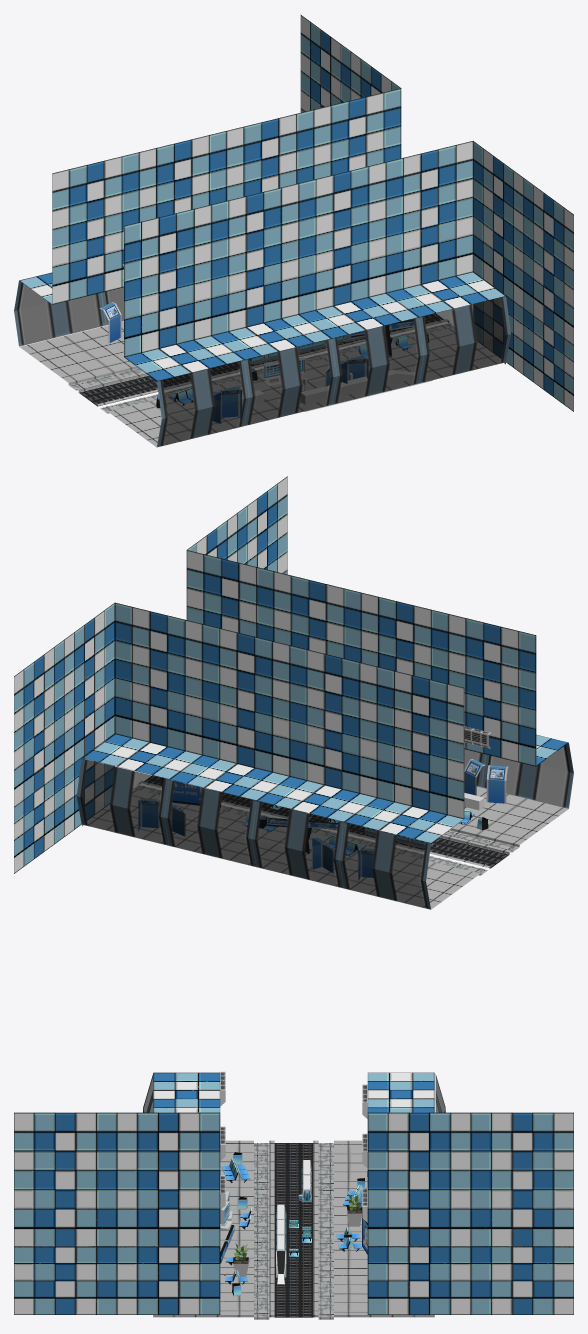
Rendered from subwaysurfmap12test.glb.
The picture shows the model from 3 angles, top to bottom: view 1: azimuth 30°, elevation 25°; view 2: azimuth 150°, elevation 25°; view 3: azimuth 270°, elevation 25°; orthographic projection. The views are drawn at different scales.
Parts seen in each view (by area): view 1: tiledwall, tiledwall.003, tiledwall.005, tiledwall.006, tiledwall.007, tiledwall.001, tiledwall.002, tiledwall.013, tiledwall.012, tiledwall.009, window1, window1.001 (+14 smaller); view 2: tiledwall.012, tiledwall.009, tiledwall.007, tiledwall.013, tiledwall.006, tiledwall.008, tiledwall.014, tiledwall, tiledwall.003, tiledwall.005, window1.007, window1.005 (+16 smaller); view 3: tiledwall.002, tiledwall.001, tiledwall.008, tiledwall.014, tiledwall.015, tiledwall.011, tiledwall.004, tiledwall.010, tiledwall.006, tiledwall.007, tile.015, tile.003 (+14 smaller).
Part boxes in pixels (bbox=[...]): tiledwall: bbox=[386, 141, 505, 317]; tiledwall.003: bbox=[298, 162, 418, 338]; tiledwall.005: bbox=[211, 183, 330, 359]; tiledwall.006: bbox=[124, 205, 243, 380]; tiledwall.007: bbox=[20, 152, 139, 304]; tiledwall.001: bbox=[473, 141, 523, 308]; tiledwall.002: bbox=[523, 178, 573, 345]; tiledwall.013: bbox=[314, 88, 401, 179]; tiledwall.012: bbox=[226, 109, 313, 200]; tiledwall.009: bbox=[139, 131, 226, 221]; window1: bbox=[418, 296, 510, 383]; window1.001: bbox=[331, 317, 423, 404]; tiledwall.012: bbox=[170, 624, 289, 800]; tiledwall.009: bbox=[257, 645, 376, 821]; tiledwall.007: bbox=[344, 666, 464, 843]; tiledwall.013: bbox=[82, 602, 202, 779]; tiledwall.006: bbox=[448, 614, 568, 766]; tiledwall.008: bbox=[14, 640, 64, 807]; tiledwall.014: bbox=[64, 603, 114, 770]; tiledwall: bbox=[186, 550, 273, 641]; tiledwall.003: bbox=[274, 571, 361, 662]; tiledwall.005: bbox=[361, 592, 448, 683]; window1.007: bbox=[76, 758, 168, 845]; window1.005: bbox=[251, 801, 343, 888]; tiledwall.002: bbox=[14, 1112, 117, 1247]; tiledwall.001: bbox=[117, 1112, 220, 1247]; tiledwall.008: bbox=[470, 1112, 573, 1247]; tiledwall.014: bbox=[367, 1112, 470, 1247]; tiledwall.015: bbox=[367, 1246, 470, 1314]; tiledwall.011: bbox=[470, 1246, 573, 1314]; tiledwall.004: bbox=[117, 1246, 220, 1314]; tiledwall.010: bbox=[14, 1246, 117, 1314]; tiledwall.006: bbox=[153, 1072, 220, 1112]; tiledwall.007: bbox=[367, 1072, 434, 1112]; tile.015: bbox=[334, 1271, 434, 1317]; tile.003: bbox=[153, 1271, 253, 1317].
Size of what is drawn, in the model's own units: 161 by 89.52 by 217.
Materials: 4 (3 with a texture image).
